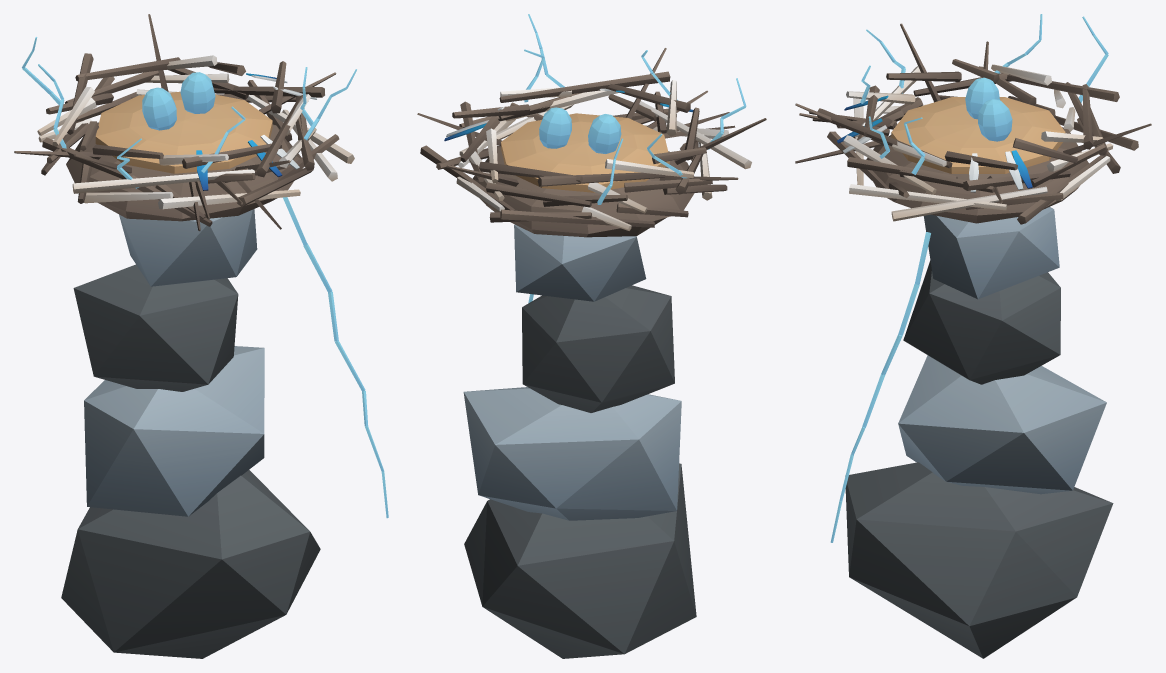
File: thunderbird_nest.glb
3 views of the same model, side by side, from view 1: azimuth 30°, elevation 25°; view 2: azimuth 150°, elevation 25°; view 3: azimuth 270°, elevation 25° (orthographic). The views are drawn at different scales.
Visible parts, largest first — view 1: thunderbird_nest; view 2: thunderbird_nest; view 3: thunderbird_nest.
Part boxes in pixels (<box>): thunderbird_nest: <box>14,14,388,658</box>; thunderbird_nest: <box>417,14,766,658</box>; thunderbird_nest: <box>795,14,1151,658</box>.
Bounding box in the file's own units: 4.39 × 7.81 × 4.29.
3 materials, 3 textured.
